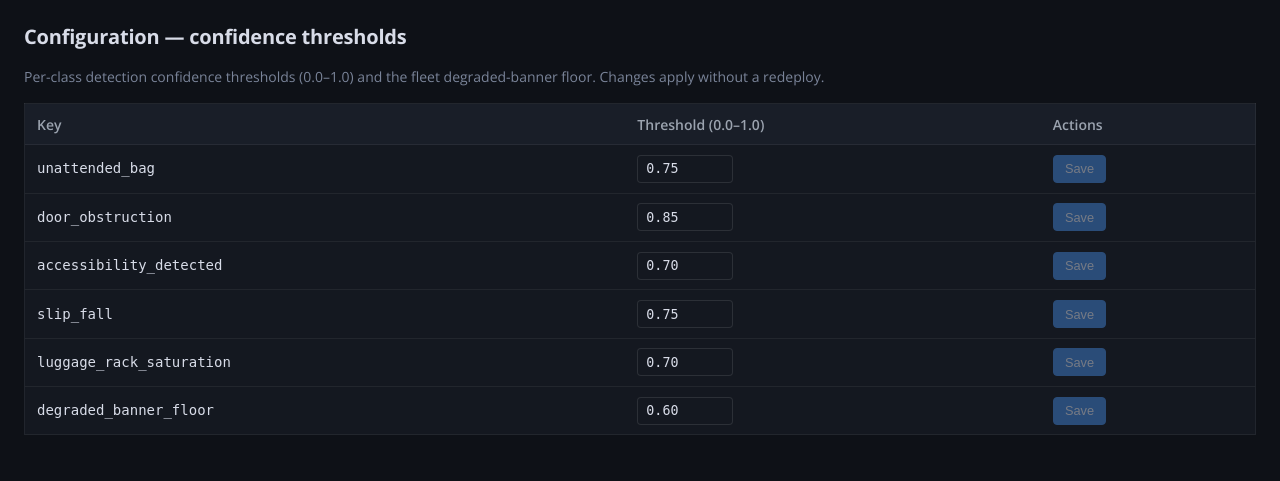
Test: Configuration — mutations › surfaces a save error (e.g. 422/403) without crashing
The width and height of the screenshot is (1280, 481).
Replace the text in the number field with test id "configuration-input-slip_fall" with "0.9". click: {"x": 685, "y": 314}
box: [637, 300, 733, 328]
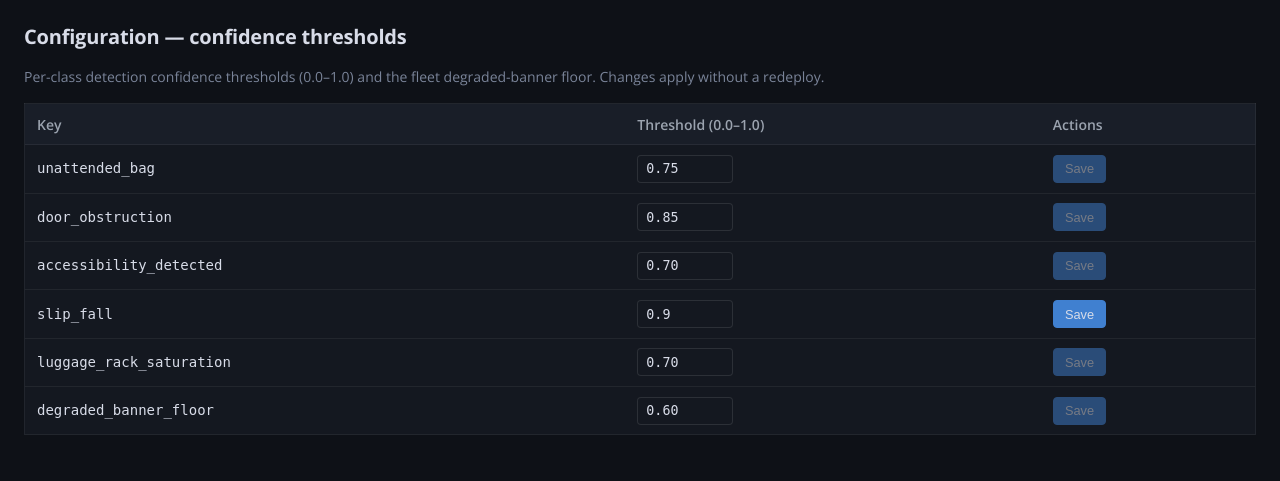
Click the button with test id "configuration-save-slip_fall". click: {"x": 1079, "y": 314}
box: [1053, 300, 1106, 328]
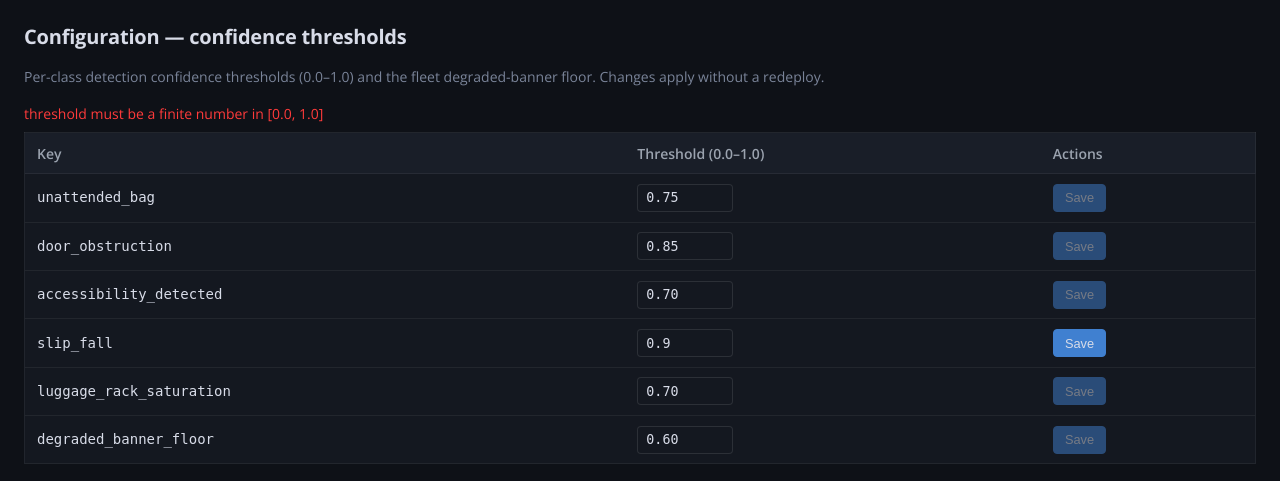
Expected: the text "threshold must be a finite number in [0.0, 1.0]" is shown, [24, 104, 323, 123]
